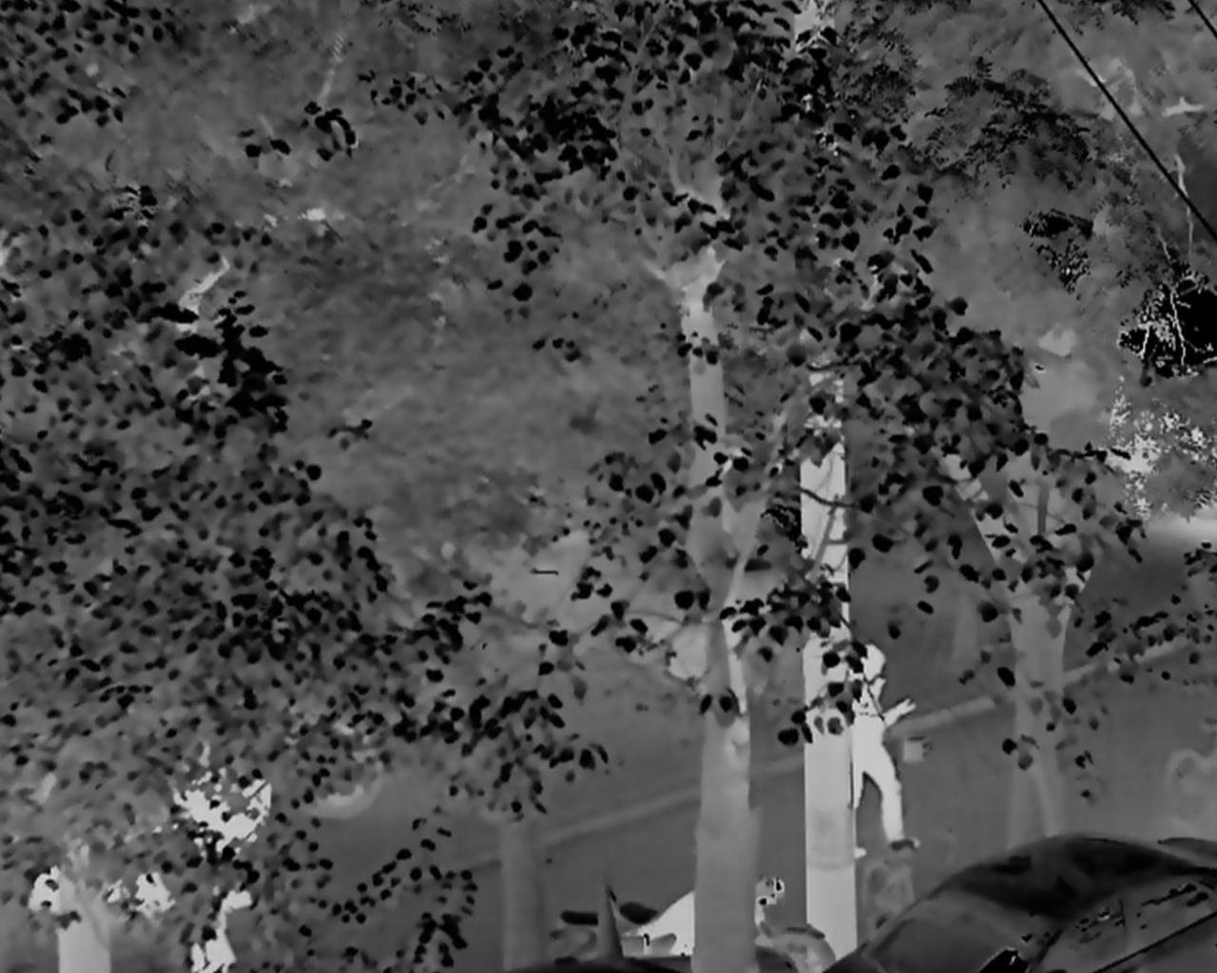person: (848, 639, 919, 858), (184, 858, 251, 973)
